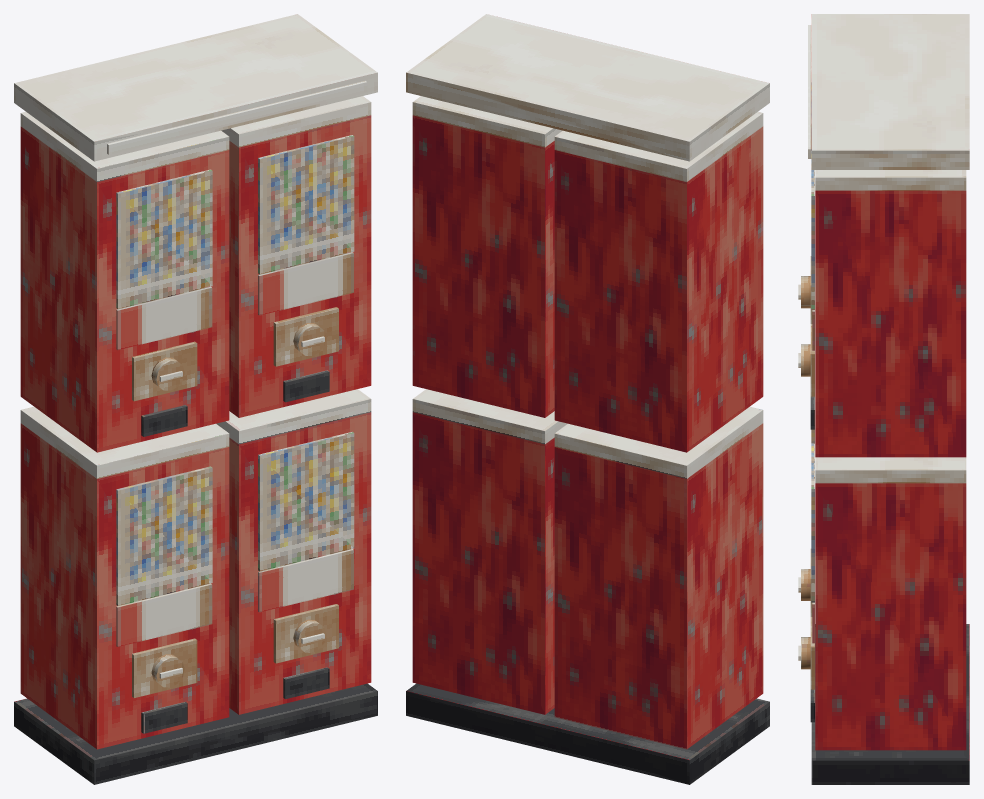
The model's file is route_red.glb.
3 views of the same model, side by side, from view 1: azimuth 30°, elevation 25°; view 2: azimuth 150°, elevation 25°; view 3: azimuth 270°, elevation 25° (orthographic).
Parts seen in each view (by area): view 1: mesh; view 2: mesh; view 3: mesh.
Boxes of the visible parts, x1,y1,x2,y2 form: mesh: (14,14,377,784); mesh: (406,14,769,784); mesh: (798,14,969,784).
Bounding box in the file's own units: 0.8999 × 1.95 × 0.478.
1 material, 1 textured.
